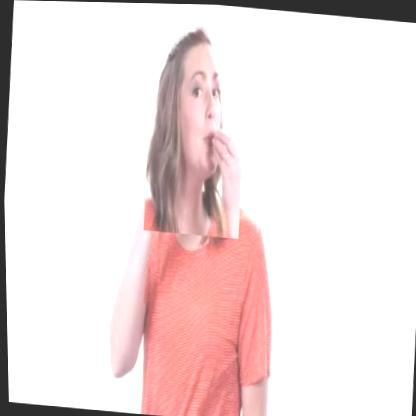Food: (139, 16, 252, 238)
